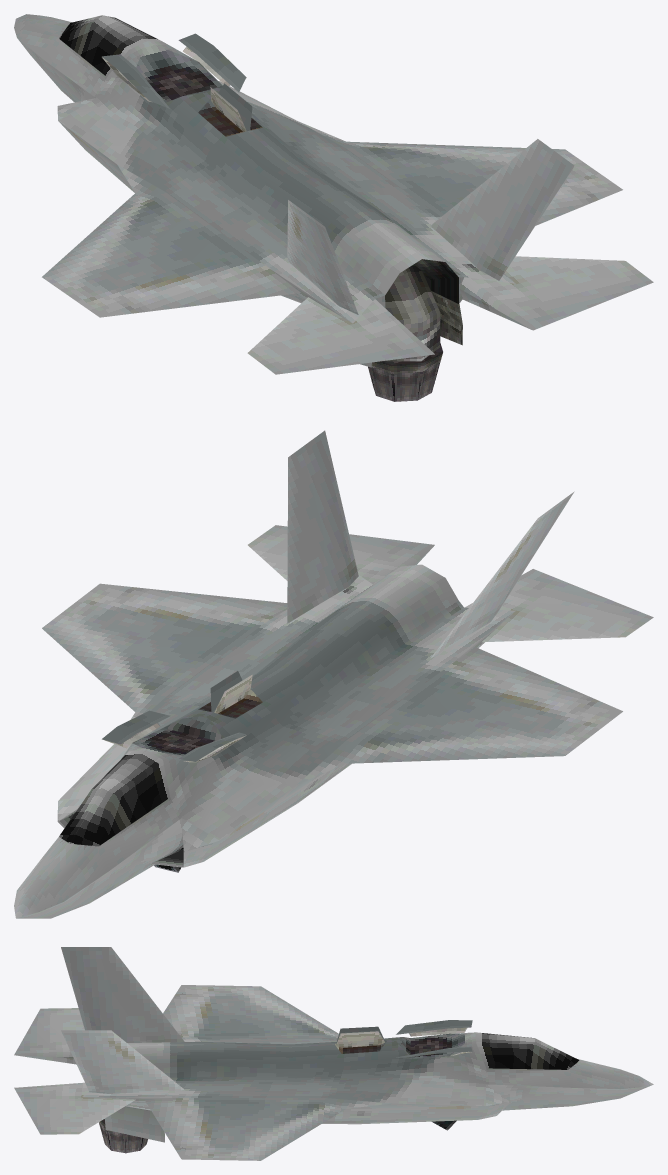
The model's file is ps2_save-icons_energyairforce.glb.
3 views of the same model, one above another, from view 1: azimuth 30°, elevation 25°; view 2: azimuth 150°, elevation 25°; view 3: azimuth 270°, elevation 25° (orthographic). The views are drawn at different scales.
Visible parts, largest first — view 1: icon1.ico; view 2: icon1.ico; view 3: icon1.ico.
Part boxes in pixels (x1=…): icon1.ico: x1=14, y1=14, x2=653, y2=401; icon1.ico: x1=14, y1=430, x2=653, y2=918; icon1.ico: x1=14, y1=947, x2=653, y2=1160.
Size of the model in its own units: 2.97 by 1.24 by 4.61.
Materials: 1 (1 with a texture image).
